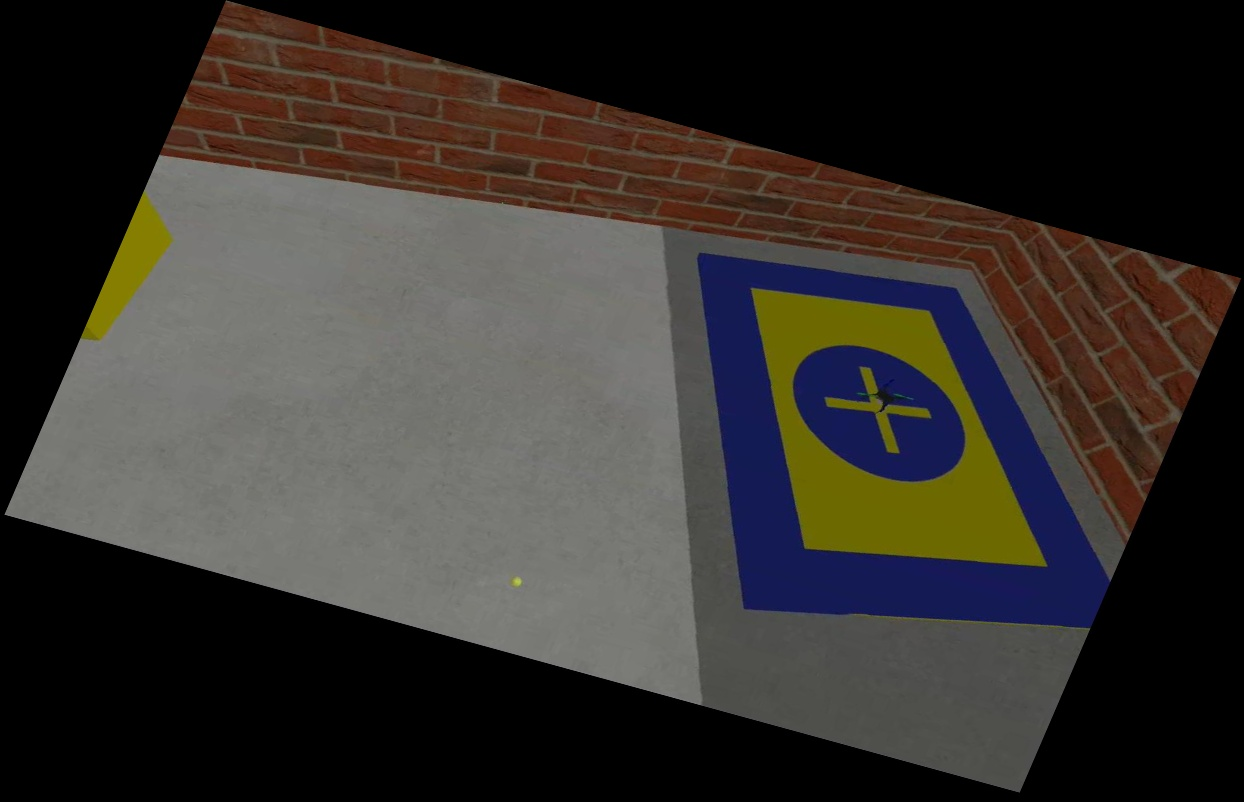large_base: (562, 218, 1205, 696)
